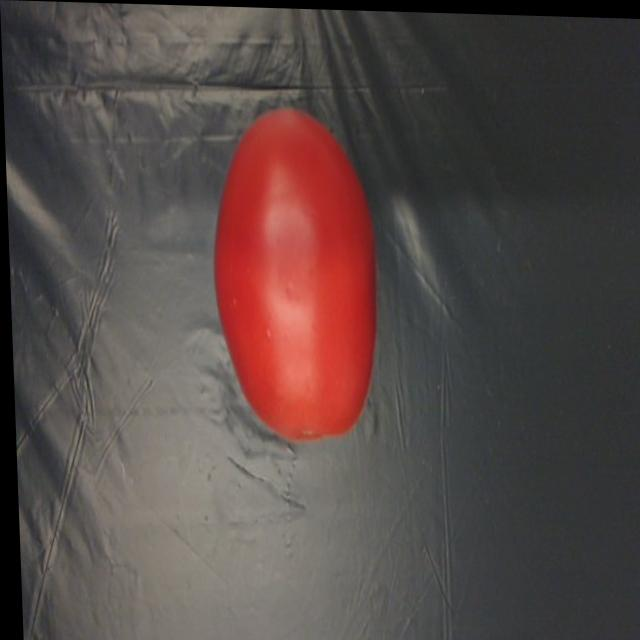kirmizi: (206, 96, 386, 452)
